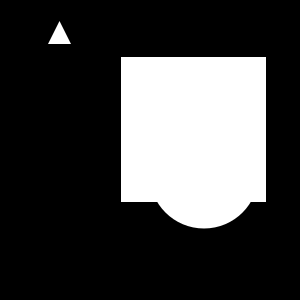circle: (121, 57, 266, 202), (155, 68, 225, 138)
rectangle: (150, 120, 258, 228)
triangle: (48, 21, 71, 44)
